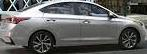Cars: (11, 16, 145, 53)
